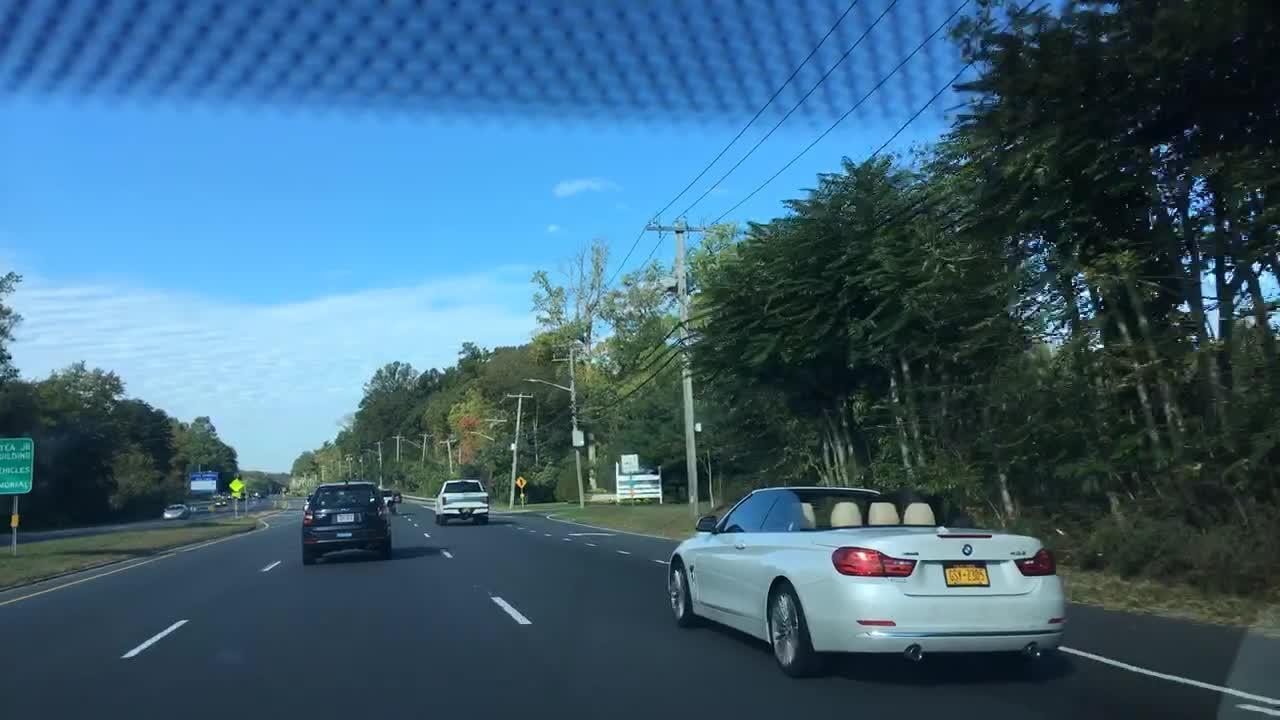bmw: (956, 542, 979, 559)
